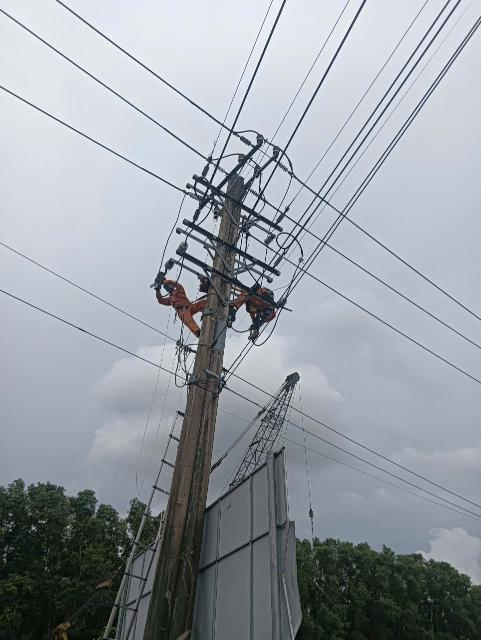gloves: (152, 282, 163, 293)
harness: (173, 302, 197, 313)
helmet: (162, 275, 177, 294)
